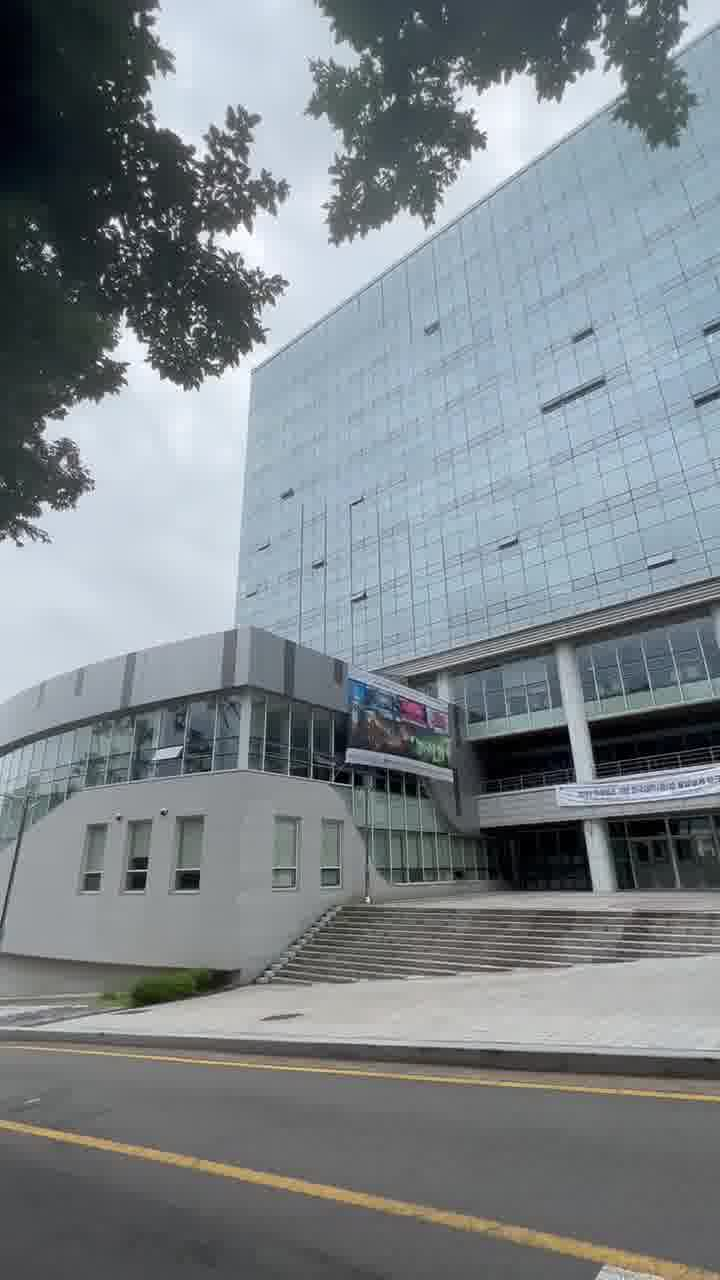low: (238, 318, 720, 828)
